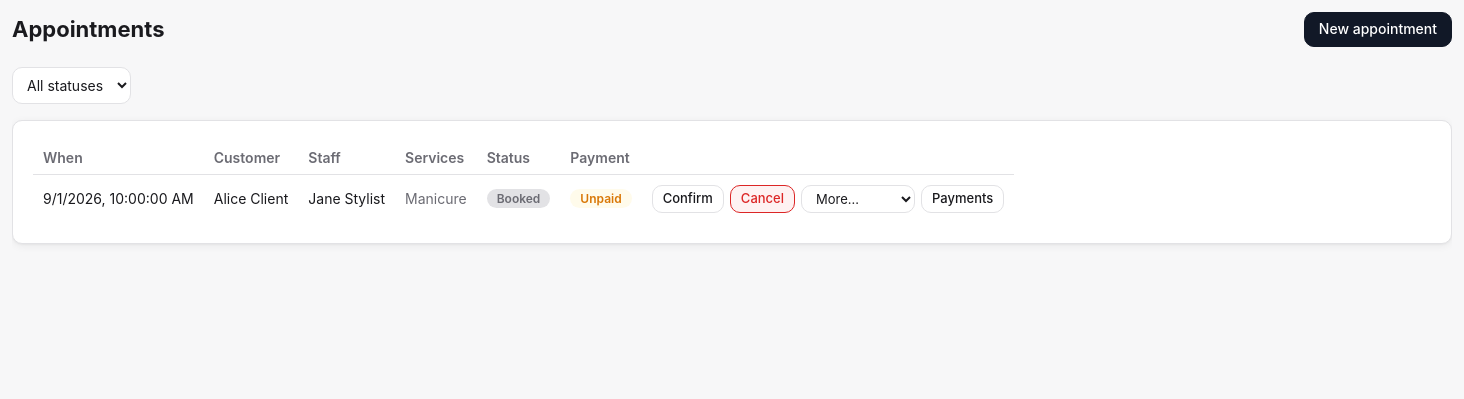
Test: AppointmentsPage - payments › collapses the panel when Payments is clicked again
expect the text "Alice Client" is shown: met, box left=204, top=174, right=298, bottom=223
Click the button "Payments".
click(963, 199)  # box left=921, top=185, right=1004, bottom=213
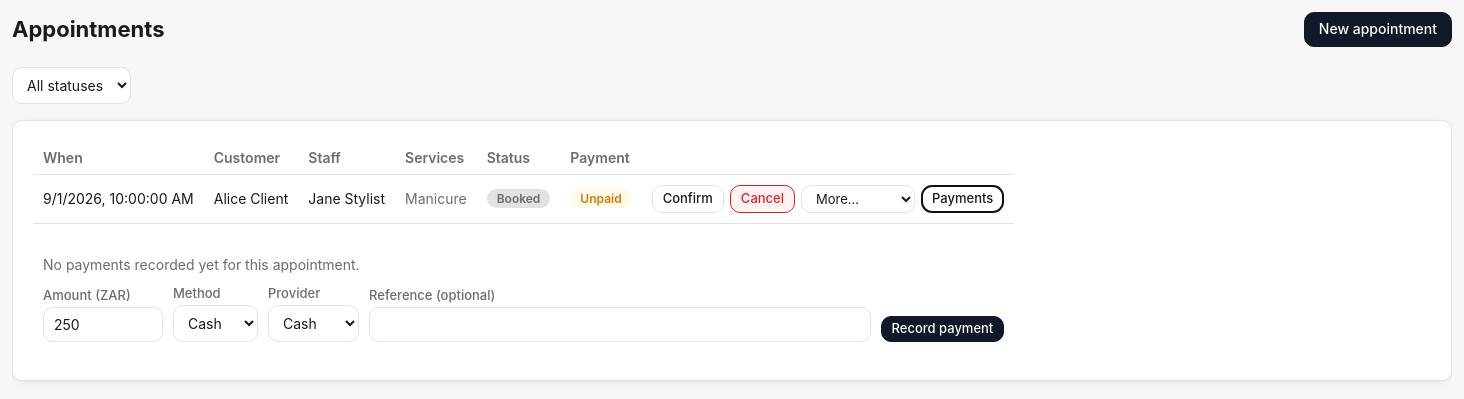
expect the text "No payments recorded yet for this appointment." is shown: met, box left=43, top=256, right=360, bottom=273
Click the button "Payments".
click(963, 199)  # box left=921, top=185, right=1004, bottom=213
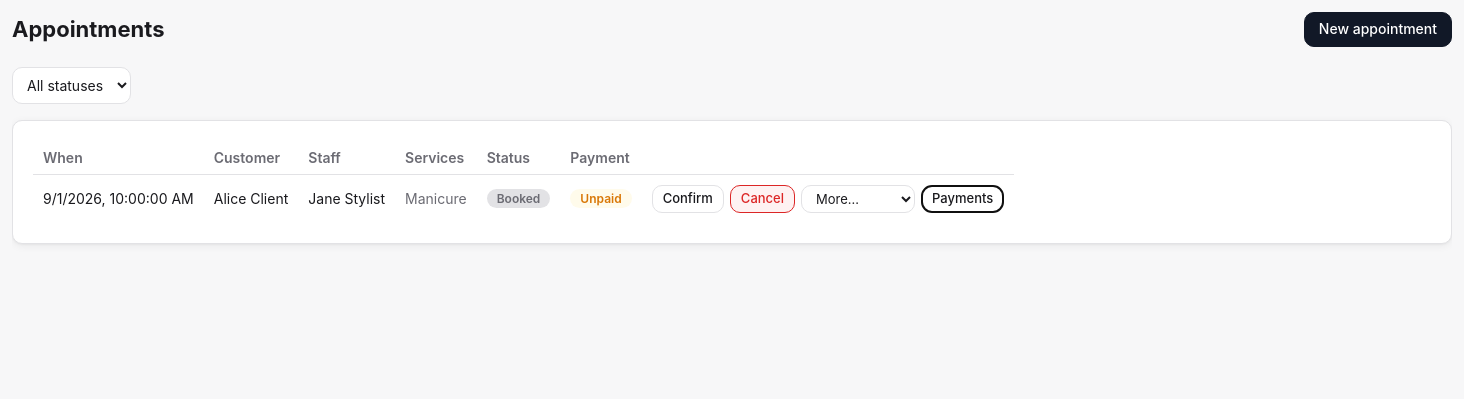
expect the text "No payments recorded yet for this appointment." is gone: met
